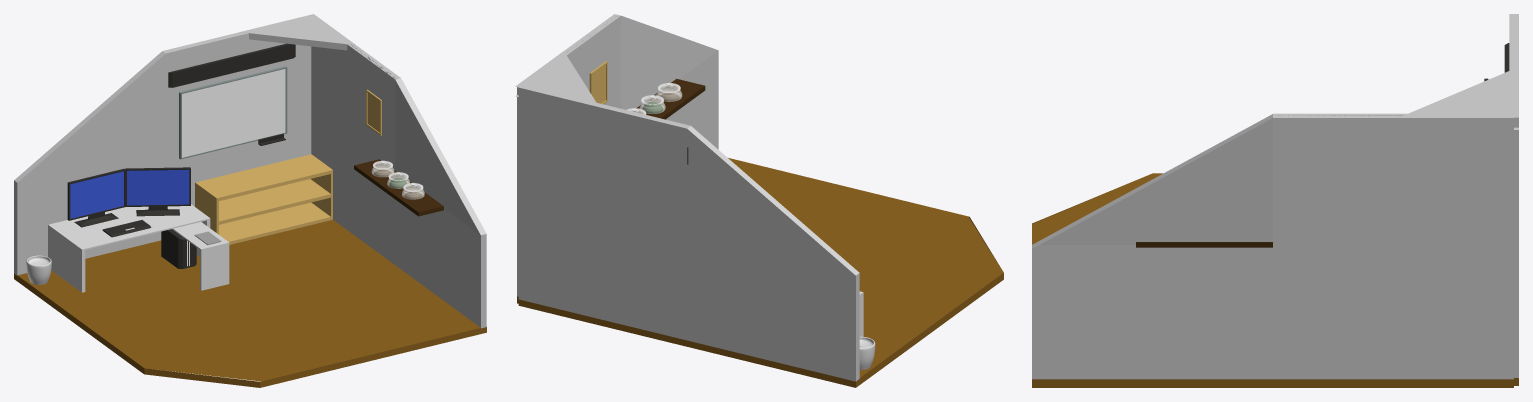
Rendered from room.glb.
The picture shows the model from 3 angles, left to right: view 1: azimuth 30°, elevation 25°; view 2: azimuth 150°, elevation 25°; view 3: azimuth 270°, elevation 25°; orthographic projection. The views are drawn at different scales.
Visible parts, largest first — view 1: Floor, Wall2, Wall, Bookshelf, Whiteboard, Desk, Monitor2, Monitor, Celling, StockDisplay, DeskPart, HangingShelf (+4 smaller); view 2: Wall, Floor, Wall2, Celling, HangingShelf, Painting, Pot, TeaContainer; view 3: Wall2, Floor, Celling, Wall, HangingShelf.
Part boxes in pixels (x1,y1,x2,y2): Floor: [14, 220, 486, 387]; Wall2: [311, 44, 486, 328]; Wall: [14, 32, 311, 275]; Bookshelf: [195, 154, 332, 244]; Whiteboard: [179, 66, 287, 159]; Desk: [48, 204, 210, 292]; Monitor2: [125, 167, 190, 216]; Monitor: [67, 168, 125, 227]; Celling: [240, 14, 355, 50]; StockDisplay: [168, 43, 295, 87]; DeskPart: [172, 222, 229, 290]; HangingShelf: [354, 159, 443, 216]; Wall: [518, 87, 859, 381]; Floor: [517, 158, 1003, 387]; Wall2: [517, 14, 718, 296]; Celling: [515, 51, 598, 106]; HangingShelf: [633, 78, 705, 119]; Painting: [589, 61, 607, 104]; Pot: [859, 336, 875, 369]; TeaContainer: [639, 95, 665, 113]; Wall2: [1032, 113, 1513, 379]; Floor: [1032, 173, 1518, 387]; Celling: [1399, 67, 1518, 129]; Wall: [1509, 14, 1518, 377]; HangingShelf: [1136, 242, 1272, 247].
Bounding box in the file's own units: 10.13 × 6.18 × 10.1.
